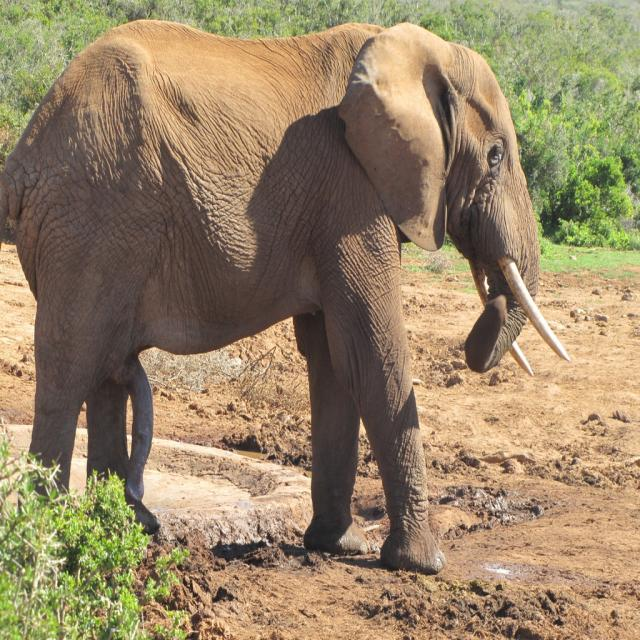Elephant: (0, 19, 571, 575)
